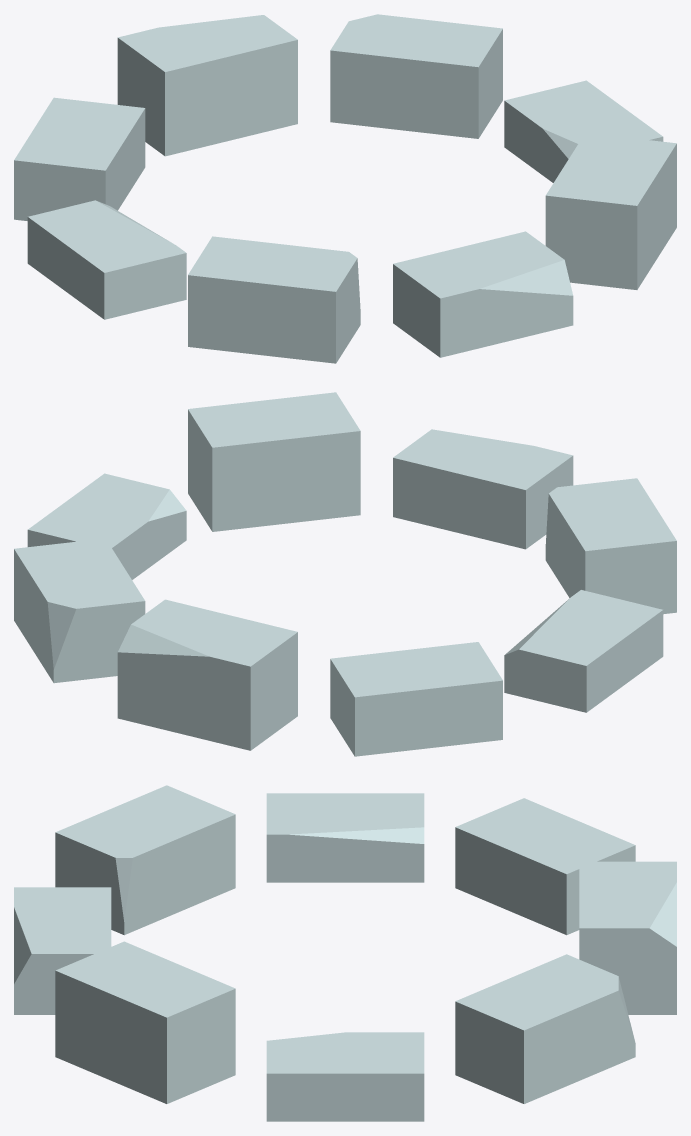
The model's file is campfireStones_blocks.glb.
3 views of the same model, one above another, from view 1: azimuth 30°, elevation 25°; view 2: azimuth 150°, elevation 25°; view 3: azimuth 270°, elevation 25° (orthographic). The views are drawn at different scales.
Parts seen in each view (by area): view 1: campfireStones_blocks; view 2: campfireStones_blocks; view 3: campfireStones_blocks.
Boxes of the visible parts, x1,y1,x2,y2 form: campfireStones_blocks: (14,14,676,363); campfireStones_blocks: (14,392,676,756); campfireStones_blocks: (14,785,676,1121).
Size of the model in its own units: 0.4692 by 0.0676 by 0.4692.
